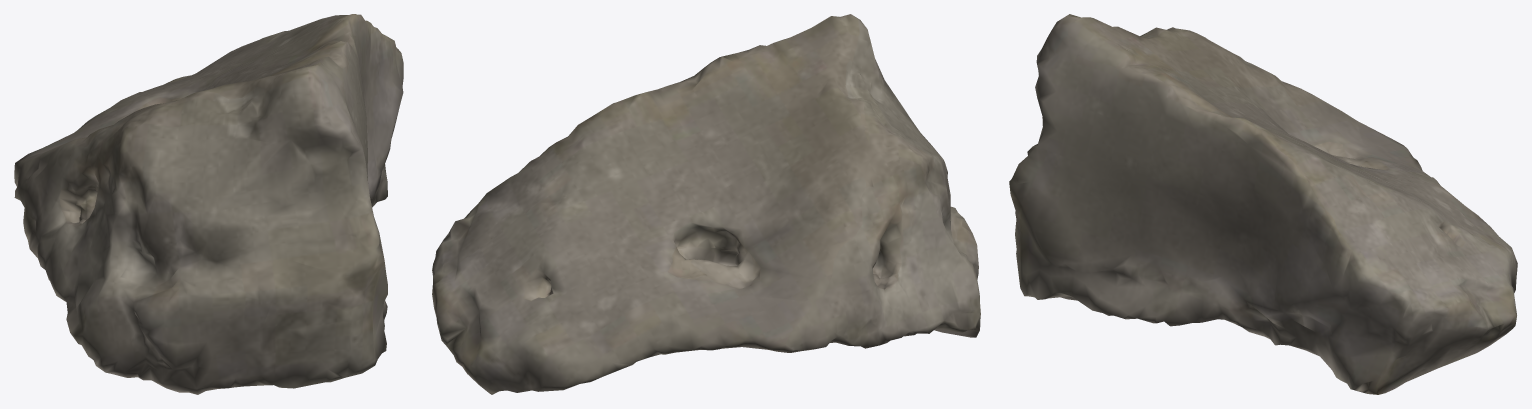
File: moon_rock_06.glb
The picture shows the model from 3 angles, left to right: view 1: azimuth 30°, elevation 25°; view 2: azimuth 150°, elevation 25°; view 3: azimuth 270°, elevation 25°; orthographic projection. The views are drawn at different scales.
Parts seen in each view (by area): view 1: moon_rock_06_LOD0; view 2: moon_rock_06_LOD0; view 3: moon_rock_06_LOD0.
Part boxes in pixels (x1=…): moon_rock_06_LOD0: x1=14, y1=14, x2=403, y2=394; moon_rock_06_LOD0: x1=432, y1=14, x2=980, y2=394; moon_rock_06_LOD0: x1=1009, y1=14, x2=1517, y2=394.
Bounding box in the file's own units: 0.0857 × 0.055 × 0.0918.
Materials: 1 (1 with a texture image).
